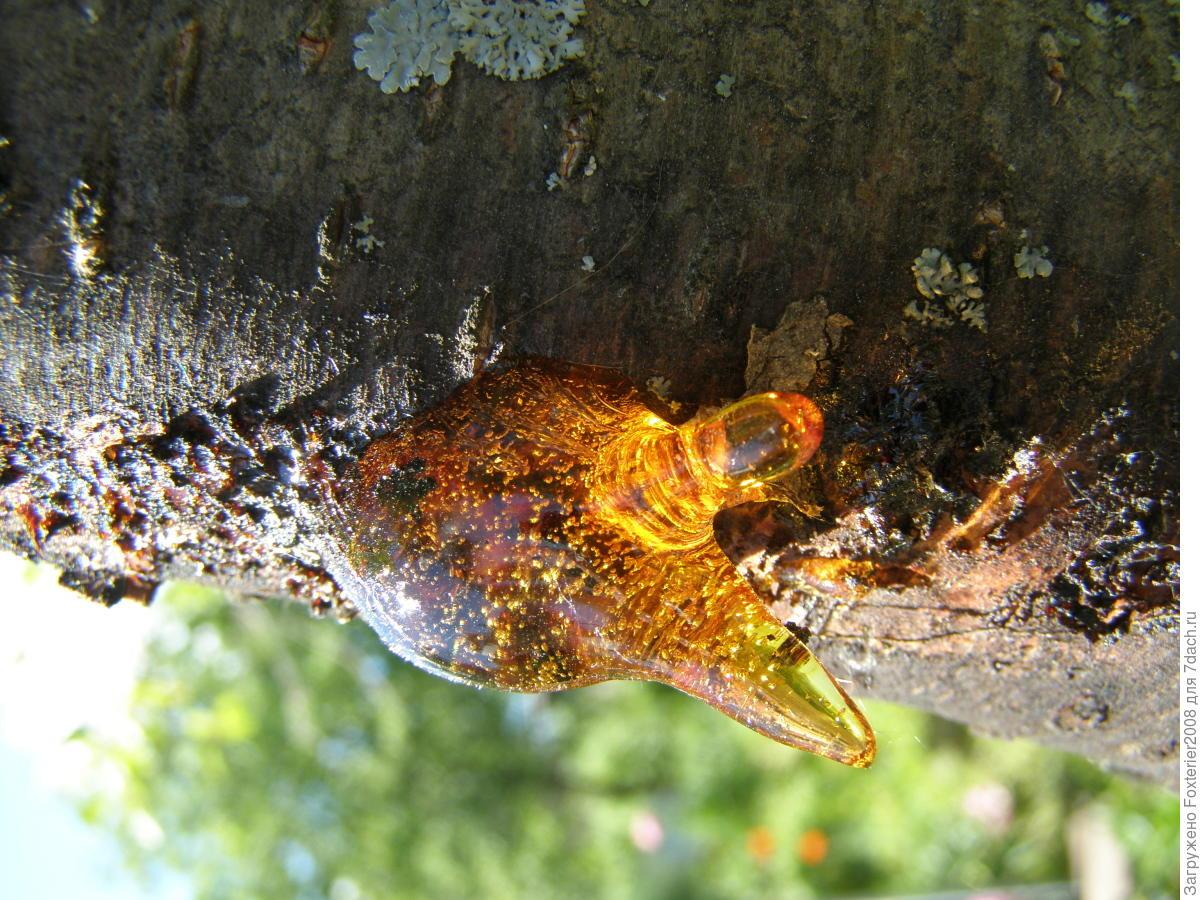gommosis: (339, 360, 873, 766)
